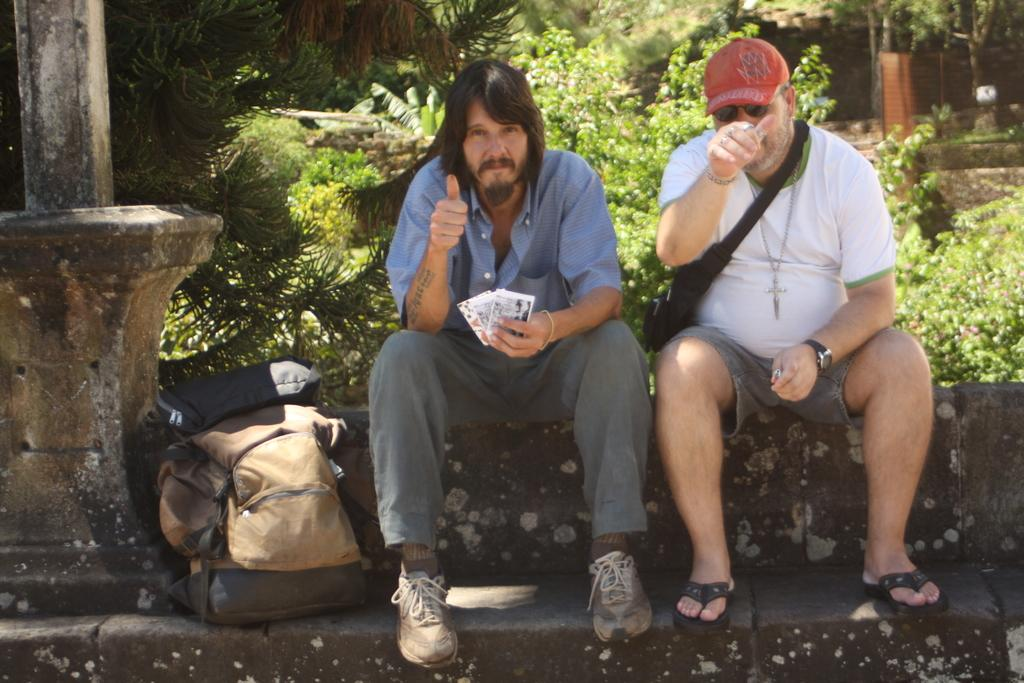Luggage-and-bags: (164, 390, 391, 605), (640, 114, 812, 352), (163, 349, 324, 443)
